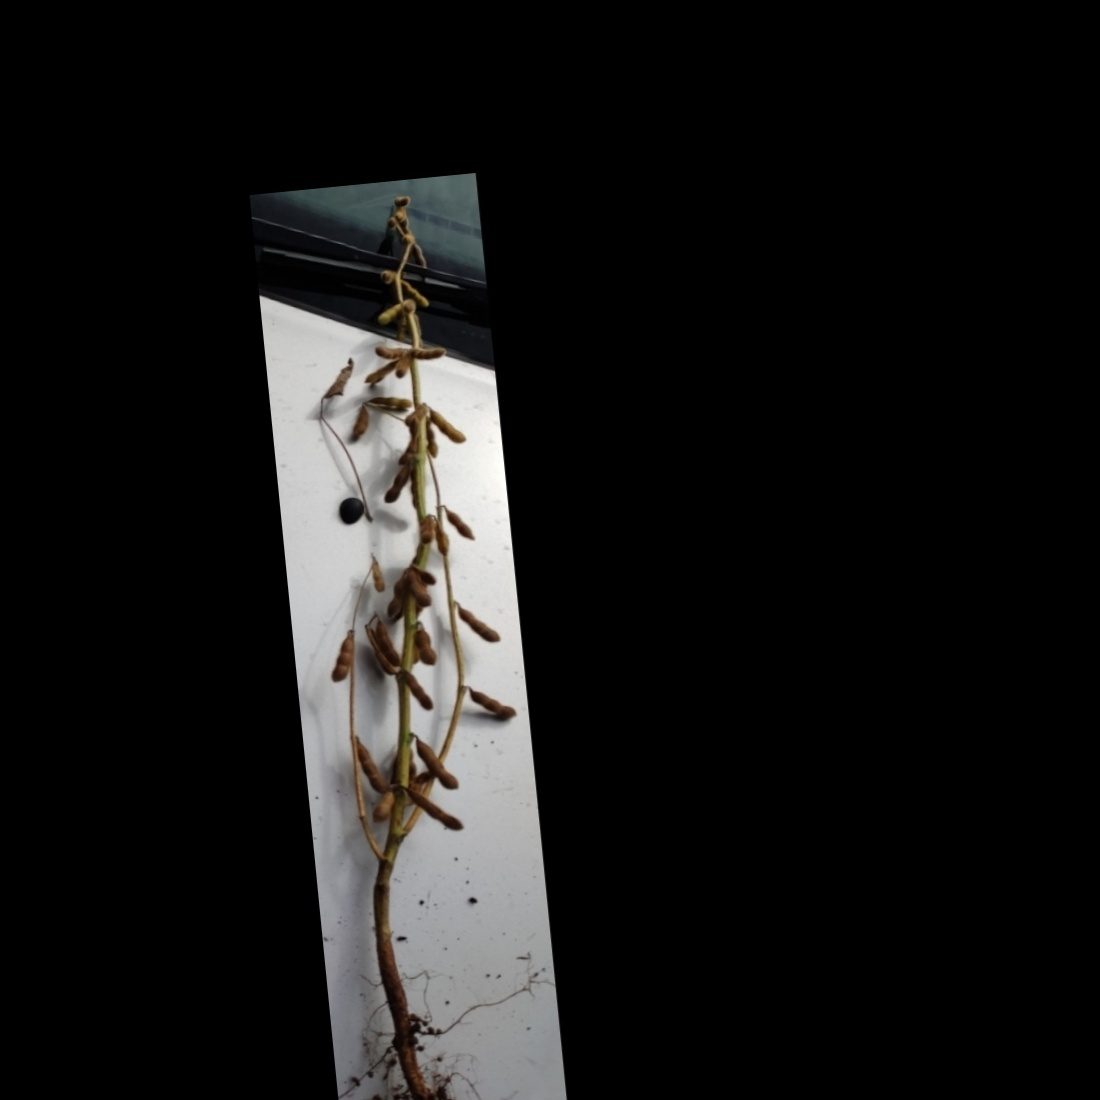pod: (404, 786, 470, 841), (412, 731, 465, 796), (453, 596, 504, 650), (464, 683, 523, 724), (354, 734, 390, 797), (427, 402, 469, 449), (376, 458, 416, 508), (322, 629, 356, 684), (403, 667, 437, 717), (442, 501, 479, 546), (411, 621, 441, 668), (365, 391, 418, 414), (374, 300, 408, 329), (406, 343, 449, 364)
soy: (259, 180, 564, 1100)
